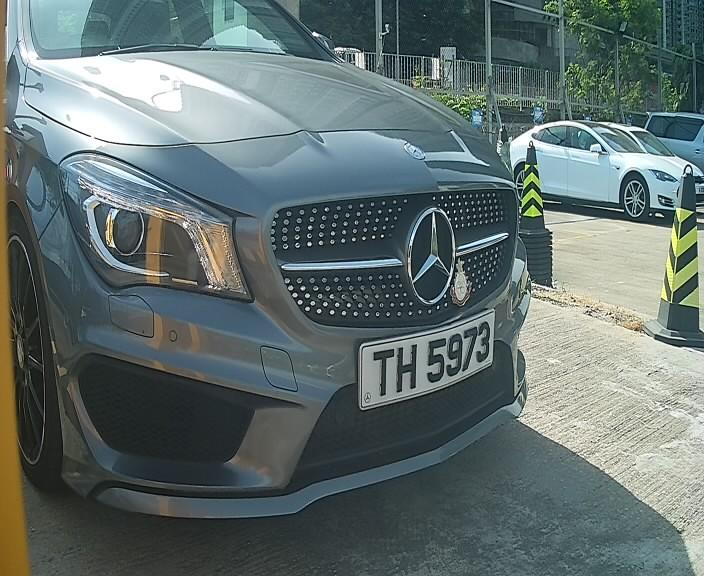privatecar: (23, 8, 538, 533)
